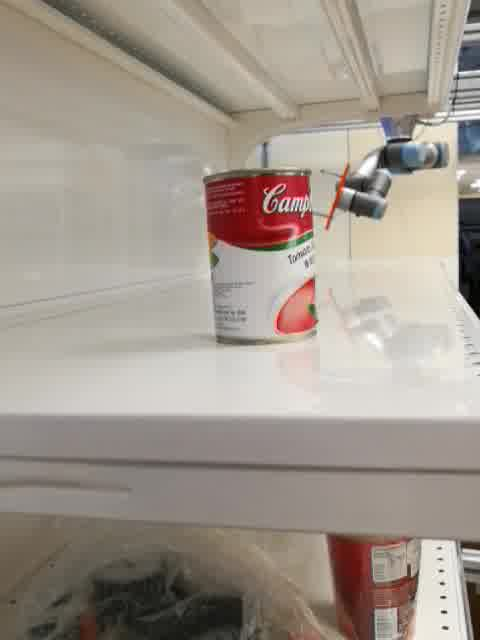tomatosoup: (200, 166, 320, 346)
